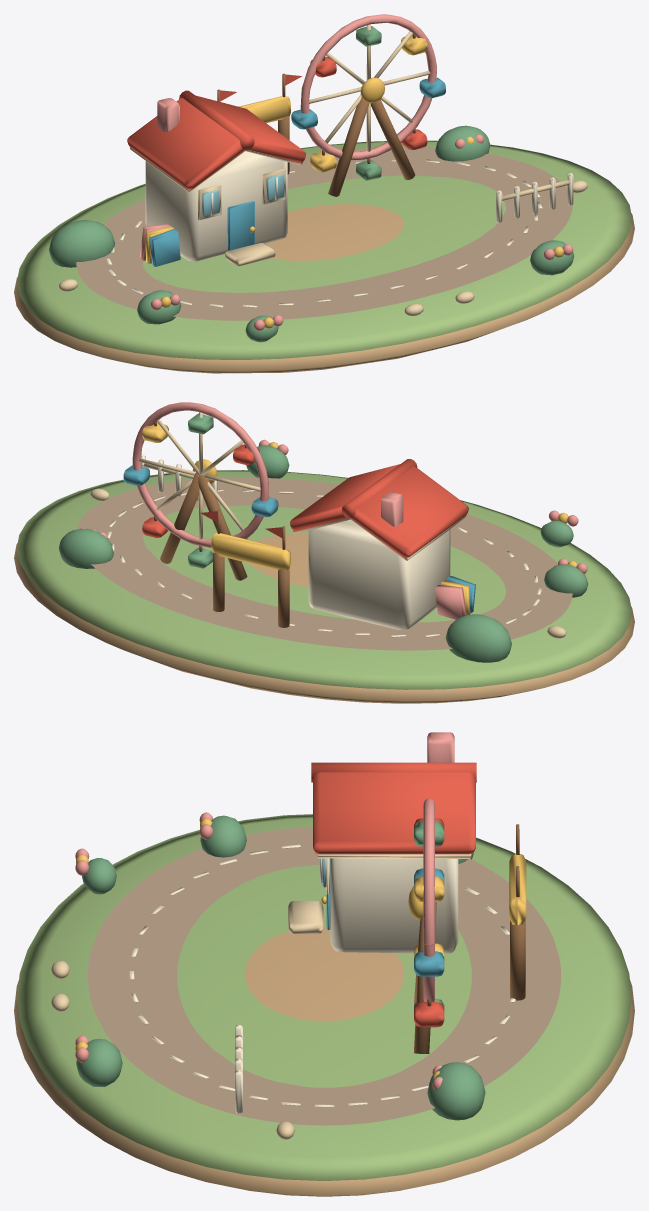
The model's file is environment.glb.
The picture shows the model from 3 angles, top to bottom: view 1: azimuth 30°, elevation 25°; view 2: azimuth 150°, elevation 25°; view 3: azimuth 270°, elevation 25°; orthographic projection. The views are drawn at different scales.
Parts seen in each view (by area): view 1: Environment_grass, Environment_road, Environment_sand, Environment_ivory, Environment_red, Environment_mint, Environment_pink, Environment_cream, Environment_blue, Environment_yellow, Environment_wood, Environment_sky; view 2: Environment_grass, Environment_road, Environment_ivory, Environment_sand, Environment_red, Environment_mint, Environment_pink, Environment_wood, Environment_yellow, Environment_cream, Environment_blue; view 3: Environment_grass, Environment_road, Environment_sand, Environment_red, Environment_ivory, Environment_mint, Environment_pink, Environment_cream, Environment_wood, Environment_yellow, Environment_blue.
Part boxes in pixels (x1,y1,x2,y2): Environment_grass: (17,140,632,359); Environment_road: (76,147,572,320); Environment_sand: (14,204,634,373); Environment_ivory: (106,151,573,307); Environment_red: (127,56,427,189); Environment_mint: (49,26,574,342); Environment_pink: (139,14,573,330); Environment_cream: (59,24,587,315); Environment_blue: (149,77,445,266); Environment_yellow: (146,35,563,328); Environment_wood: (217,34,415,196); Environment_sky: (202,174,284,216); Environment_grass: (16,470,632,689); Environment_road: (77,477,572,650); Environment_ivory: (107,455,542,637); Environment_sand: (14,534,634,703); Environment_red: (142,444,468,558); Environment_mint: (58,413,588,662); Environment_pink: (80,402,587,619); Environment_wood: (154,412,289,627); Environment_yellow: (92,422,577,615); Environment_cream: (90,412,566,638); Environment_blue: (123,465,475,613); Environment_grass: (17,814,631,1180); Environment_road: (87,827,561,1125); Environment_sand: (14,926,634,1196); Environment_red: (311,762,476,1027); Environment_ivory: (129,844,515,1113); Environment_mint: (76,815,485,1120); Environment_pink: (75,732,454,1089); Environment_cream: (51,854,471,1139); Environment_wood: (414,824,525,1053); Environment_yellow: (75,818,526,1079); Environment_blue: (326,858,444,976).
Size of the model in its own units: 11.3 by 4.2 by 8.
Materials: 2 (2 with a texture image).
